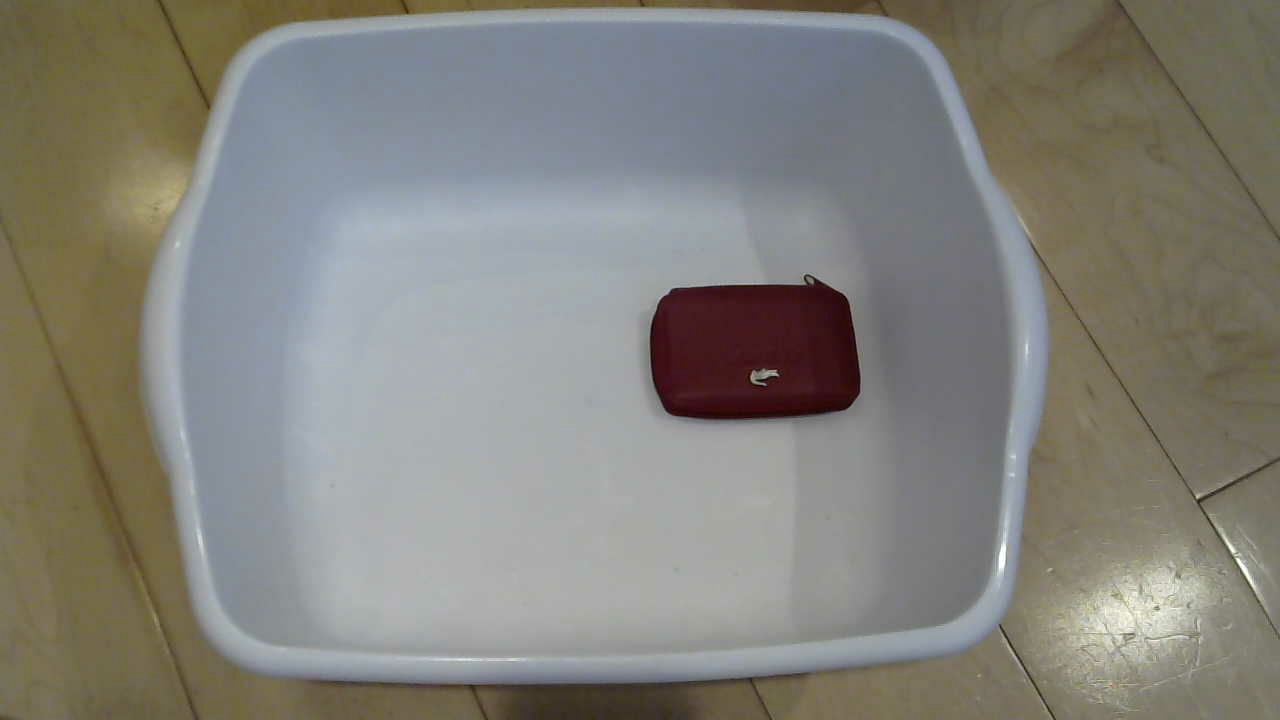wallet: (630, 269, 887, 435)
